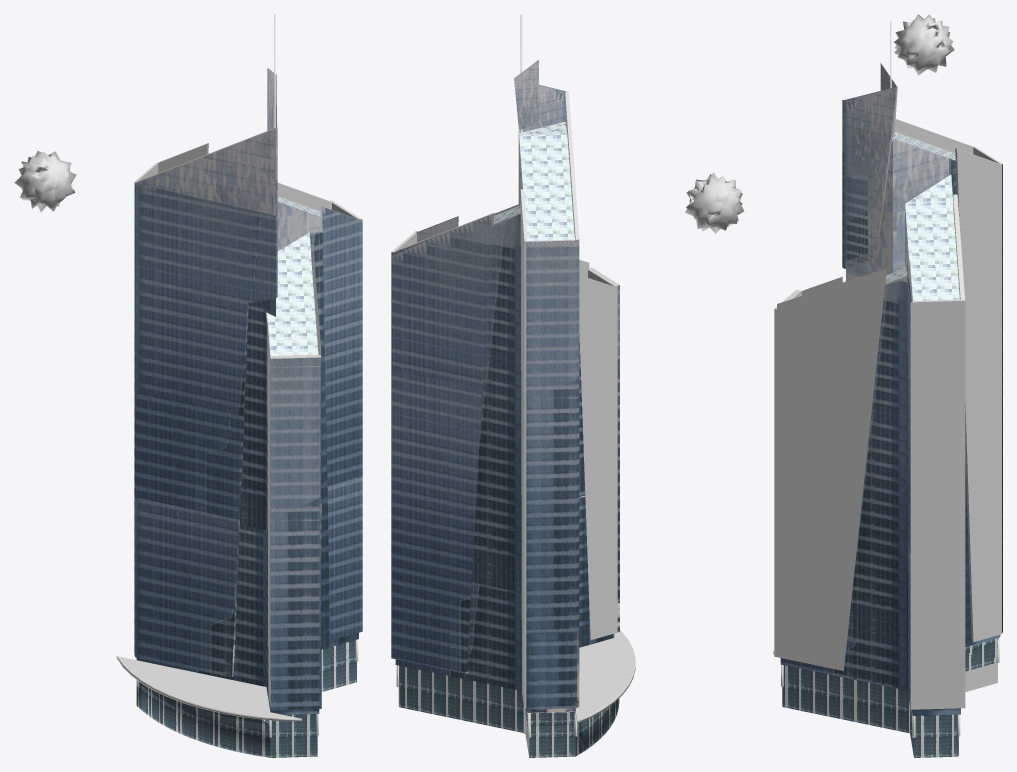
File: tourfirst.fbx
The picture shows the model from 3 angles, left to right: view 1: azimuth 30°, elevation 25°; view 2: azimuth 150°, elevation 25°; view 3: azimuth 270°, elevation 25°; orthographic projection.
Parts seen in each view (by area): view 1: _(Loose Entity), Cube.075_Star Texture .001_0.001; view 2: _(Loose Entity), Cube.075_Star Texture .001_0.001; view 3: _(Loose Entity), Cube.075_Star Texture .001_0.001.
Part boxes in pixels (x1,y1,x2,y2): _(Loose Entity): [116, 14, 362, 757]; Cube.075_Star Texture .001_0.001: [14, 151, 76, 211]; _(Loose Entity): [391, 14, 635, 757]; Cube.075_Star Texture .001_0.001: [685, 172, 744, 233]; _(Loose Entity): [773, 21, 1002, 757]; Cube.075_Star Texture .001_0.001: [894, 14, 954, 75].
Size of the model in its own units: 12683 by 25248 by 7602.
5 materials, 3 textured.
